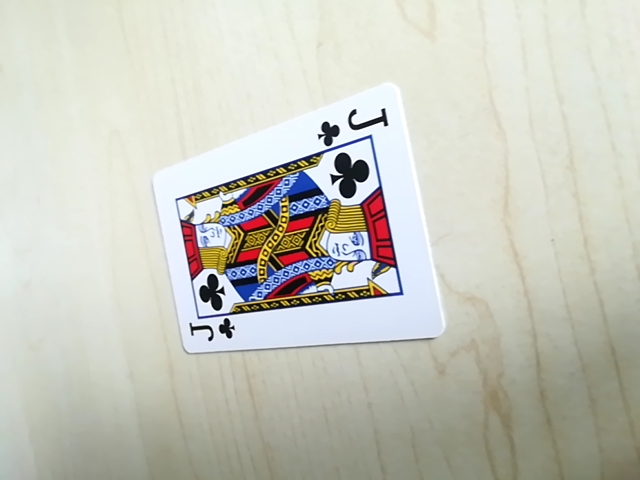mh j: (315, 102, 392, 147), (183, 313, 239, 352)
